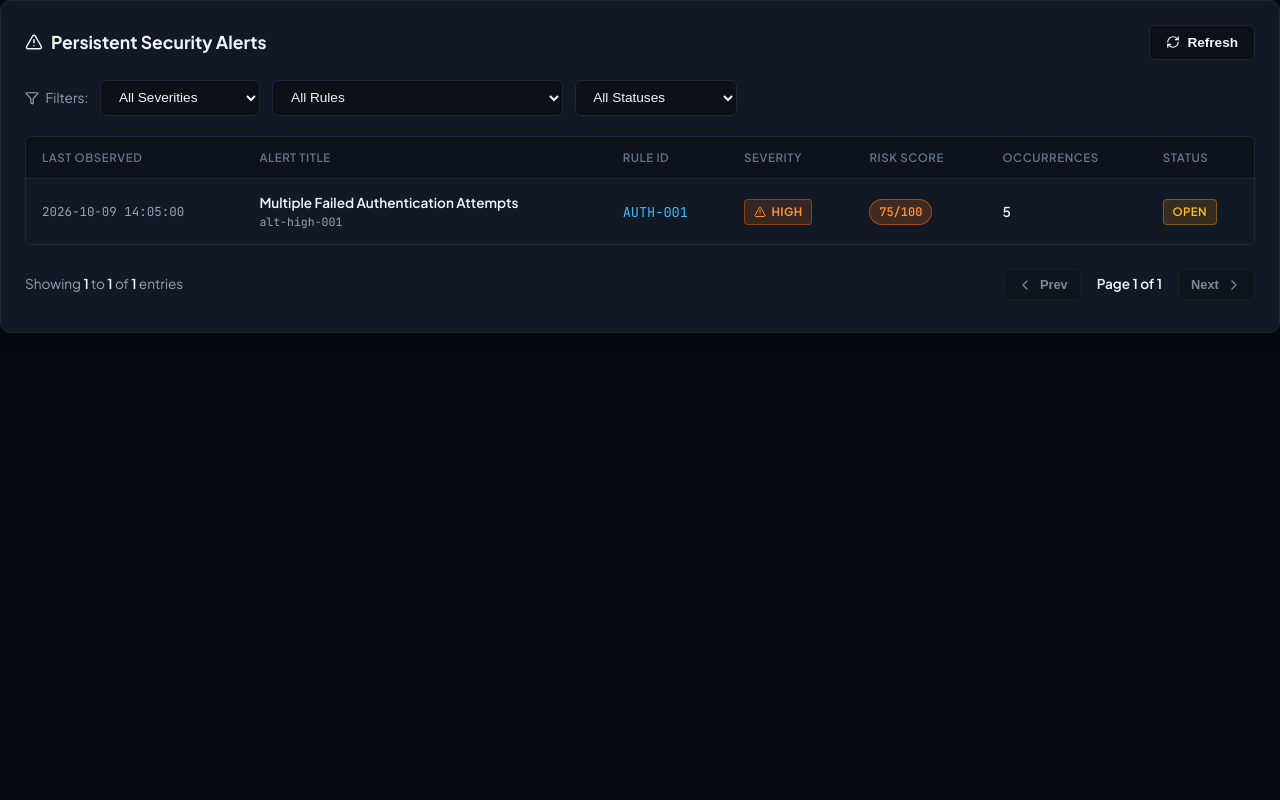
Test: Events and Alerts Components › AlertsTable renders alert details with severity label and risk score
expect the element with test id "severity-badge-high" reads "HIGH": met, box [771,204,803,219]
expect the text "75/100" is shown: met, box [869,199,932,225]
Click row to open alert detail drawer
Click the row with test id "alert-row-alt-high-001".
click(640, 212)  # box [26,179,1254,244]
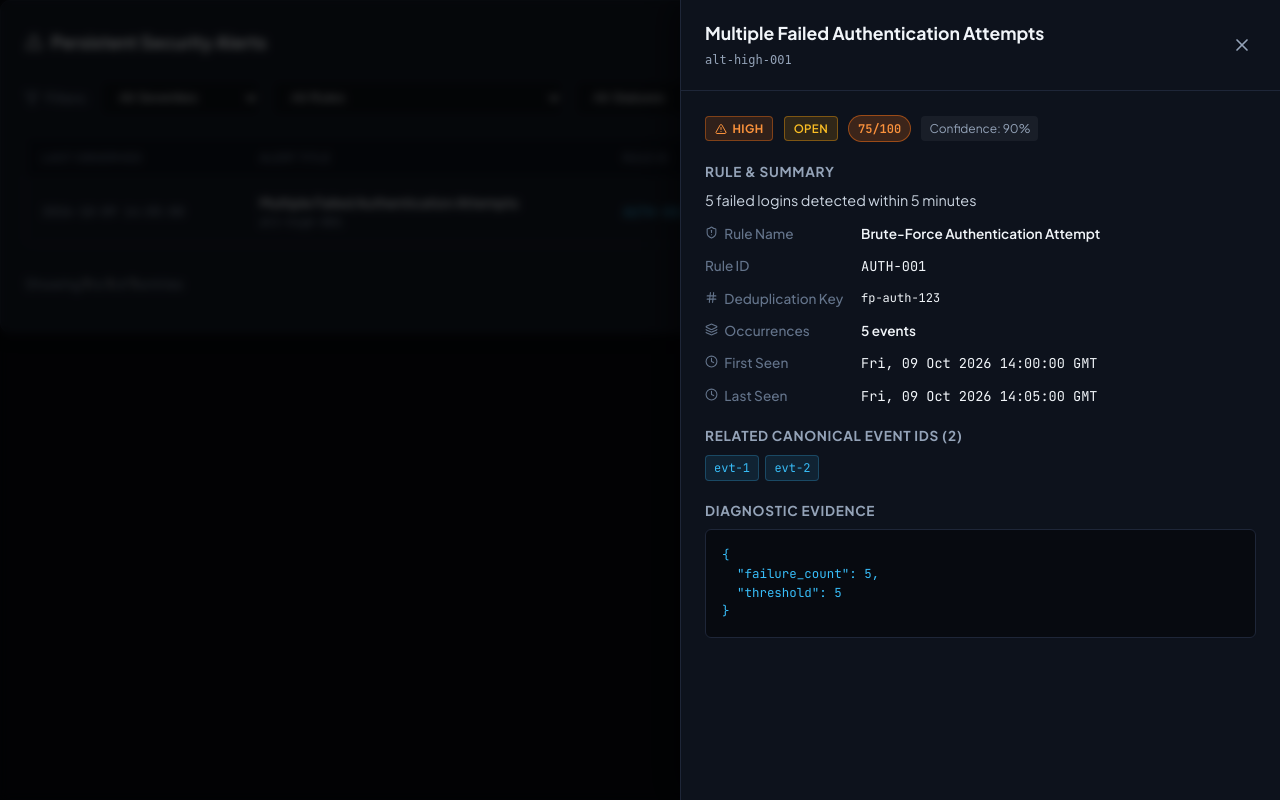
expect the heading "Diagnostic Evidence" is shown: met, box [705,502,875,519]
expect the text "evt-1" is shown: met, box [705,454,759,481]
